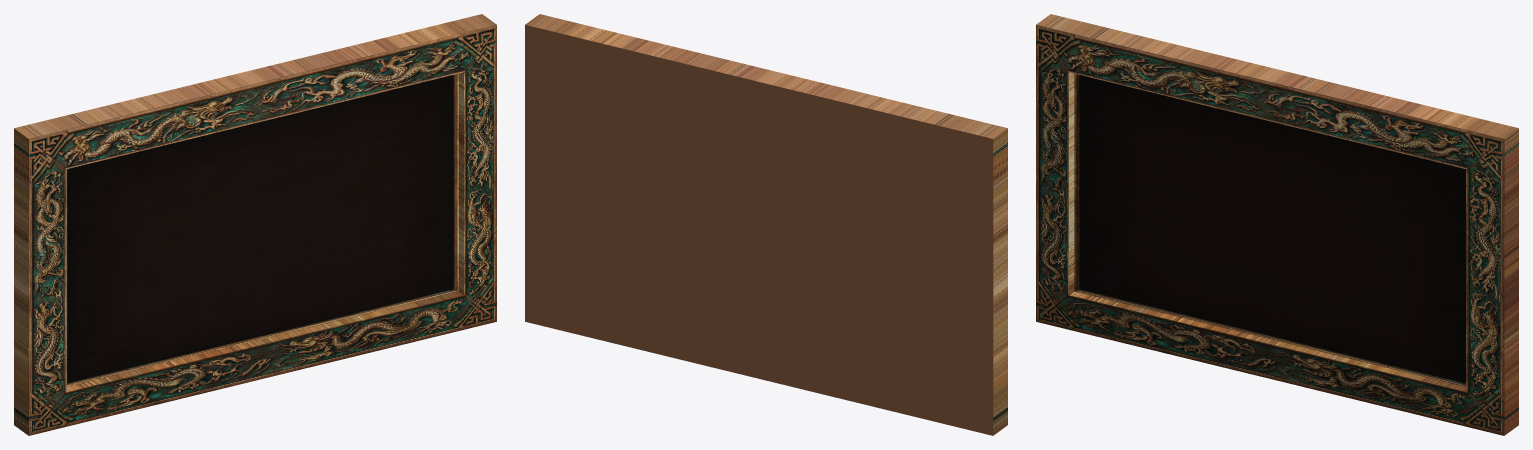
File: panel_exhibit.glb
3 views of the same model, side by side, from view 1: azimuth 30°, elevation 25°; view 2: azimuth 150°, elevation 25°; view 3: azimuth 330°, elevation 25° (orthographic).
Visible parts, largest first — view 1: panel_exhibit; view 2: panel_exhibit; view 3: panel_exhibit.
Part boxes in pixels (left/top/right/bottom): panel_exhibit: left=14, top=14, right=496, bottom=435; panel_exhibit: left=525, top=14, right=1007, bottom=435; panel_exhibit: left=1036, top=14, right=1518, bottom=435.
Bounding box in the file's own units: 0.66 × 0.4 × 0.042.
1 material, 1 textured.
